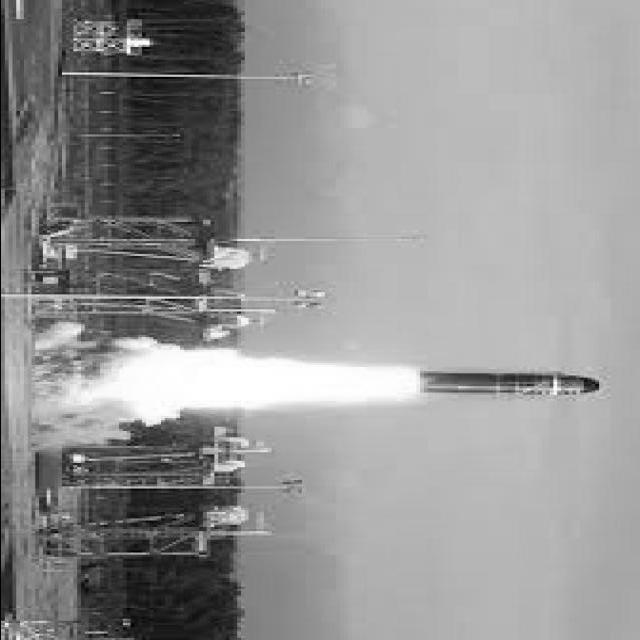missile: (395, 370, 615, 399)
